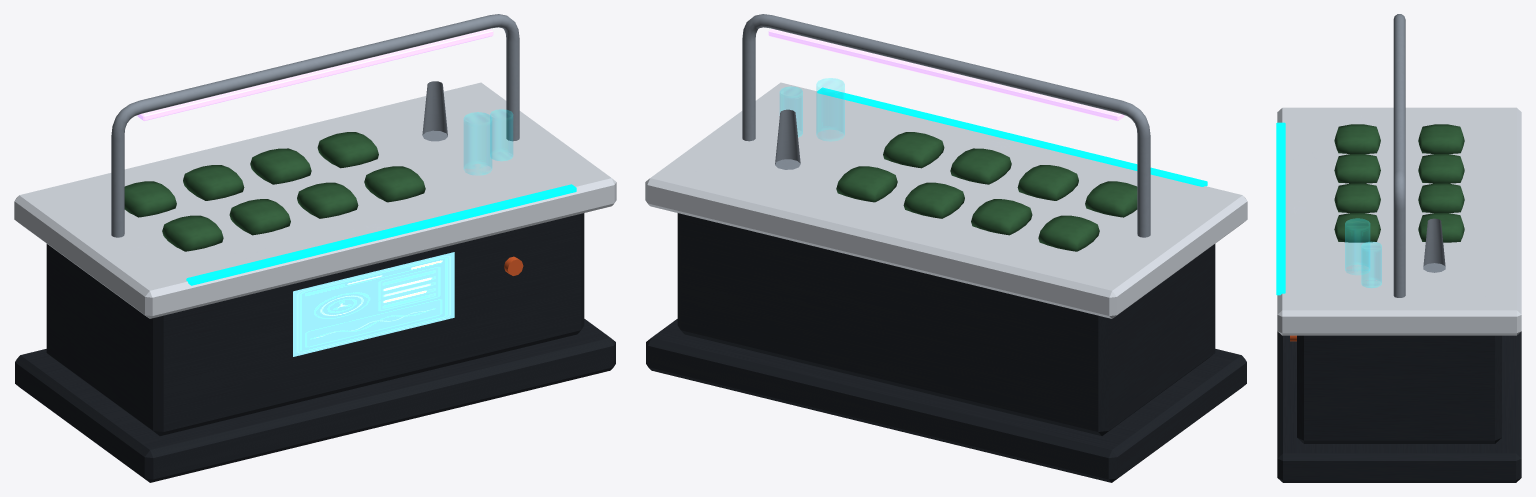
File: hydro_sample_bench.glb
3 renders of one model, left to right at view 1: azimuth 30°, elevation 25°; view 2: azimuth 150°, elevation 25°; view 3: azimuth 270°, elevation 25°, orthographic. The views are drawn at different scales.
Visible parts, largest first — view 1: SampleBench_GunmetalPedestal, SampleBench_AerospaceWhiteCountertop, SampleBench_SeedlingPropagationFoliage, SampleBench_FrontOLEDTelemetry, SampleBench_MicroscopeGantry, SampleBench_CyanTrayRim, SampleBench_OverheadUVGrowBar, SampleBench_TranslucentSampleFlasks; view 2: SampleBench_GunmetalPedestal, SampleBench_AerospaceWhiteCountertop, SampleBench_SeedlingPropagationFoliage, SampleBench_MicroscopeGantry, SampleBench_OverheadUVGrowBar, SampleBench_CyanTrayRim, SampleBench_TranslucentSampleFlasks; view 3: SampleBench_AerospaceWhiteCountertop, SampleBench_GunmetalPedestal, SampleBench_SeedlingPropagationFoliage, SampleBench_MicroscopeGantry, SampleBench_TranslucentSampleFlasks, SampleBench_CyanTrayRim.
Boxes of the visible parts, left/top/right/bottom form: SampleBench_GunmetalPedestal: left=15, top=213, right=615, bottom=482; SampleBench_AerospaceWhiteCountertop: left=14, top=82, right=616, bottom=318; SampleBench_SeedlingPropagationFoliage: left=124, top=132, right=425, bottom=251; SampleBench_FrontOLEDTelemetry: left=293, top=252, right=454, bottom=356; SampleBench_MicroscopeGantry: left=111, top=14, right=519, bottom=237; SampleBench_CyanTrayRim: left=186, top=184, right=576, bottom=285; SampleBench_OverheadUVGrowBar: left=137, top=29, right=493, bottom=120; SampleBench_TranslucentSampleFlasks: left=464, top=109, right=512, bottom=174; SampleBench_GunmetalPedestal: left=646, top=213, right=1246, bottom=482; SampleBench_AerospaceWhiteCountertop: left=645, top=82, right=1247, bottom=318; SampleBench_SeedlingPropagationFoliage: left=836, top=132, right=1137, bottom=251; SampleBench_MicroscopeGantry: left=742, top=14, right=1150, bottom=237; SampleBench_OverheadUVGrowBar: left=768, top=29, right=1124, bottom=120; SampleBench_CyanTrayRim: left=817, top=87, right=1207, bottom=186; SampleBench_TranslucentSampleFlasks: left=780, top=78, right=844, bottom=140; SampleBench_AerospaceWhiteCountertop: left=1277, top=107, right=1521, bottom=335; SampleBench_GunmetalPedestal: left=1277, top=331, right=1521, bottom=482; SampleBench_SeedlingPropagationFoliage: left=1334, top=124, right=1464, bottom=242; SampleBench_MicroscopeGantry: left=1393, top=14, right=1445, bottom=297; SampleBench_TranslucentSampleFlasks: left=1345, top=218, right=1381, bottom=287; SampleBench_CyanTrayRim: left=1276, top=122, right=1285, bottom=295.
Bounding box in the file's own units: 2.1 × 1.36 × 1.05.
Materials: 9 (9 with a texture image).
